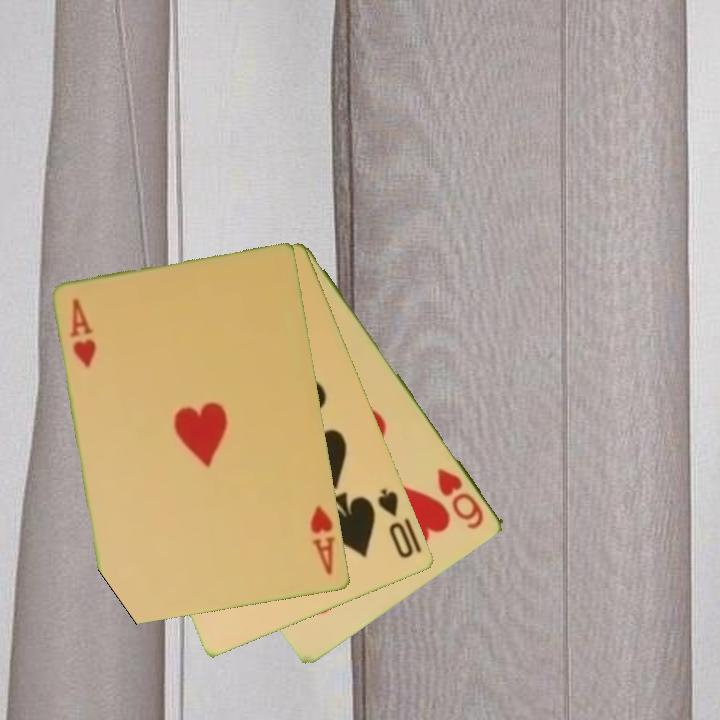10s: (374, 485, 417, 562)
6h: (434, 464, 488, 533)
Ah: (67, 295, 100, 371), (307, 502, 338, 579)
